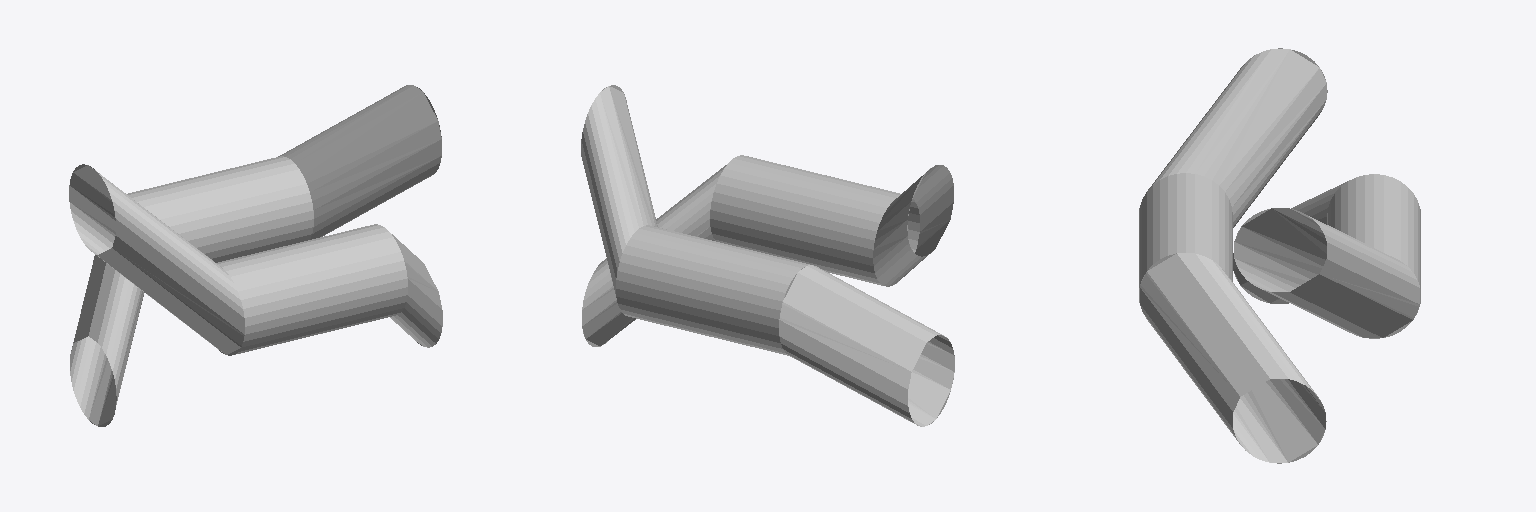
The model's file is twistA.obj.
3 renders of one model, left to right at view 1: azimuth 30°, elevation 25°; view 2: azimuth 150°, elevation 25°; view 3: azimuth 270°, elevation 25°, orthographic.
Visible parts, largest first — view 1: Shape_IndexedFaceSet.003_Shape_IndexedFaceSet.009; view 2: Shape_IndexedFaceSet.003_Shape_IndexedFaceSet.009; view 3: Shape_IndexedFaceSet.003_Shape_IndexedFaceSet.009.
Boxes of the visible parts, x1,y1,x2,y2 form: Shape_IndexedFaceSet.003_Shape_IndexedFaceSet.009: [69, 85, 442, 426]; Shape_IndexedFaceSet.003_Shape_IndexedFaceSet.009: [581, 85, 954, 426]; Shape_IndexedFaceSet.003_Shape_IndexedFaceSet.009: [1139, 48, 1420, 463].
Size of the model in its own units: 16 by 12 by 12.